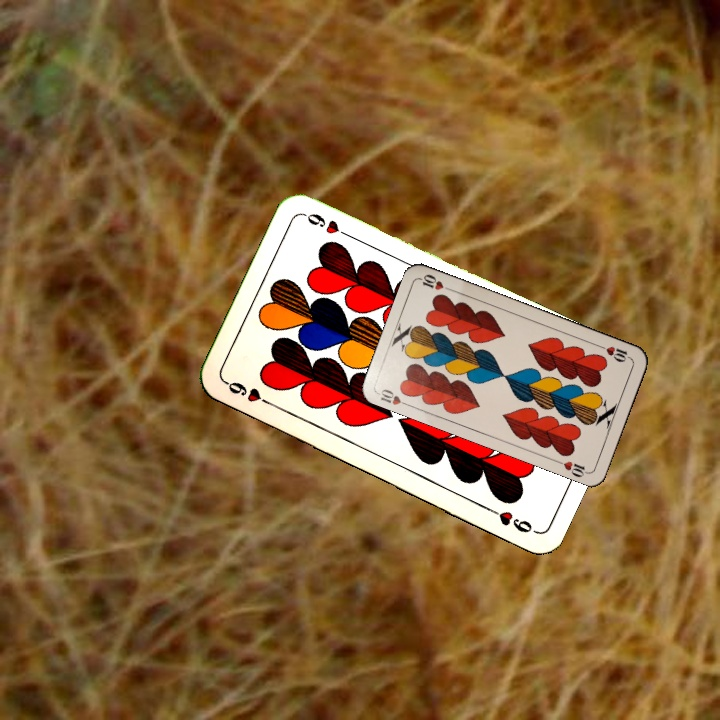H10: (594, 341, 633, 365), (374, 385, 413, 409)
H9: (221, 377, 277, 409)
